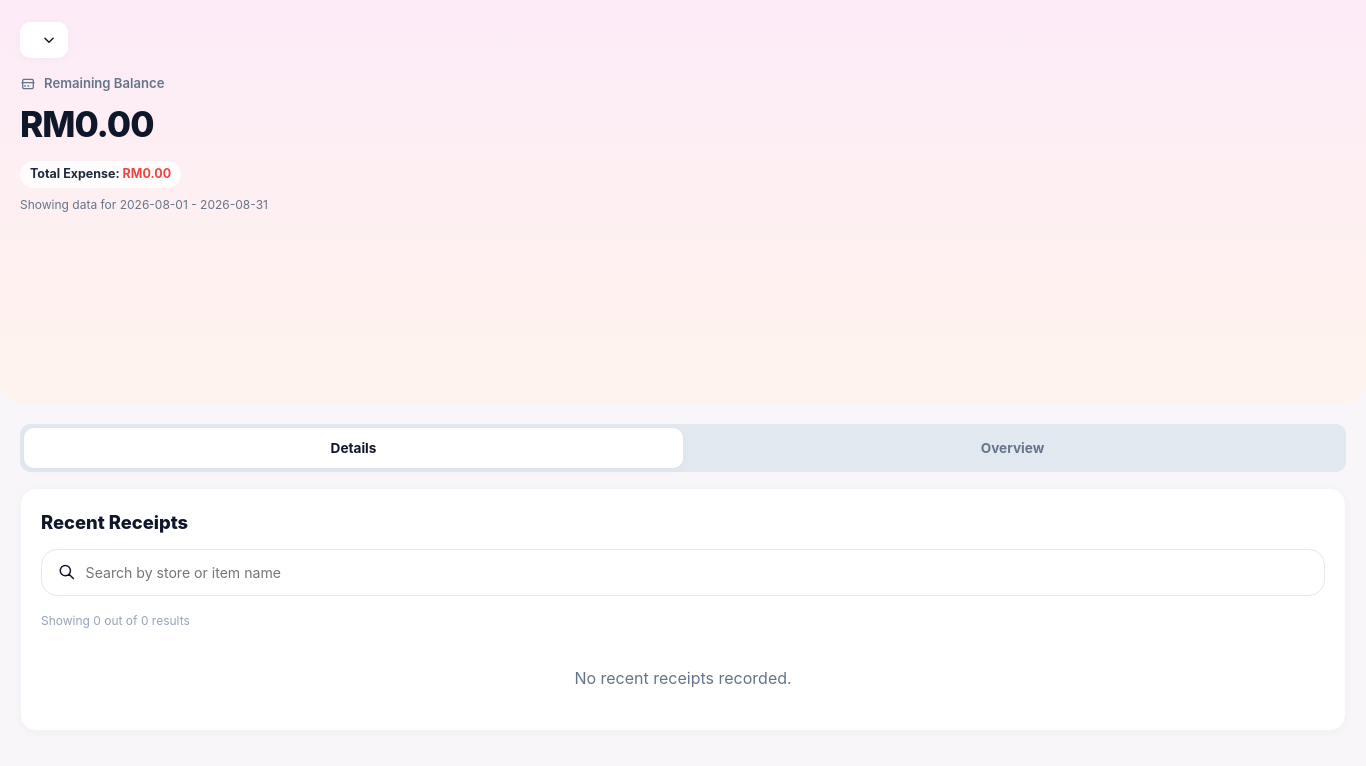
Scenario: HomeDashboardView › shows empty receipt and overview states safely
Expected: the text "No recent receipts recorded." is shown, [574, 668, 792, 688]
Click the button "Overview": (1012, 448) [683, 428, 1342, 468]
(page scrolled)
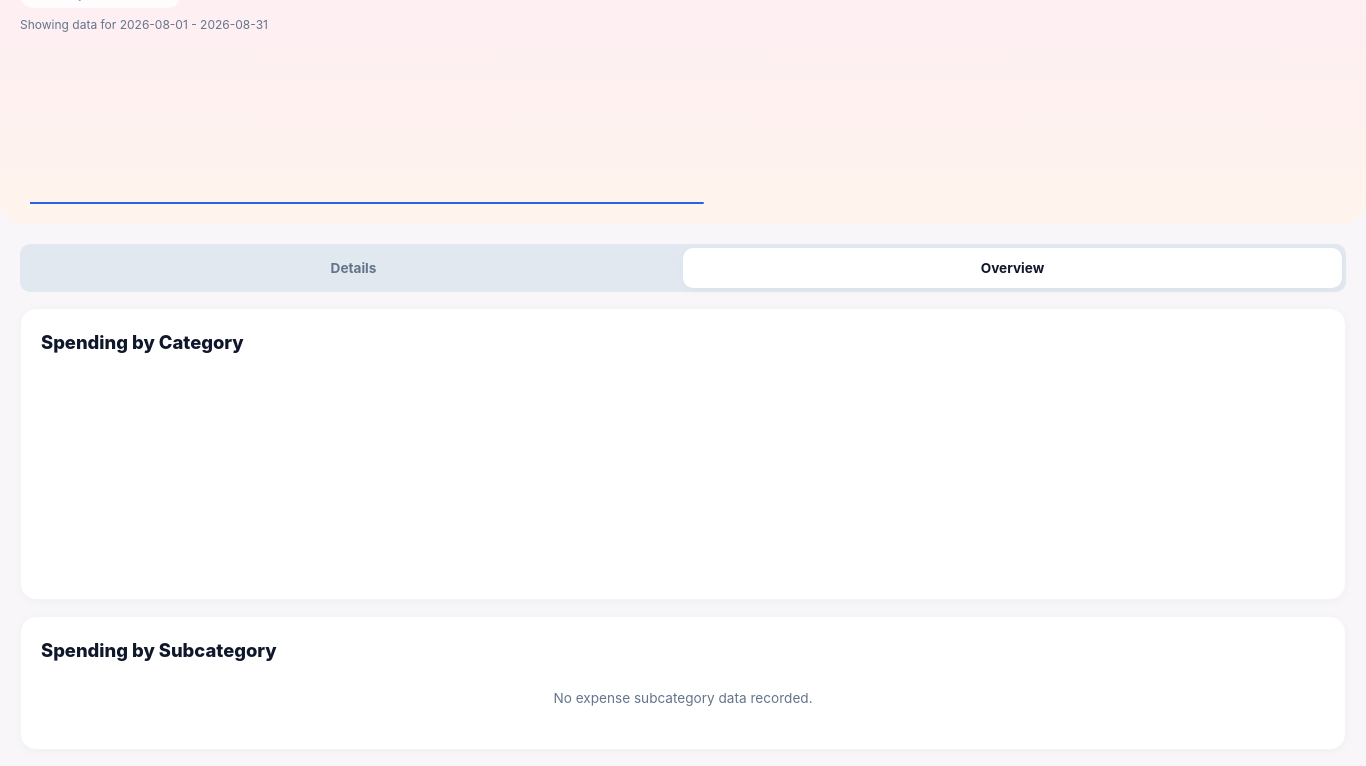
Now the text "No expense subcategory data recorded." is shown, box [554, 690, 813, 706]
